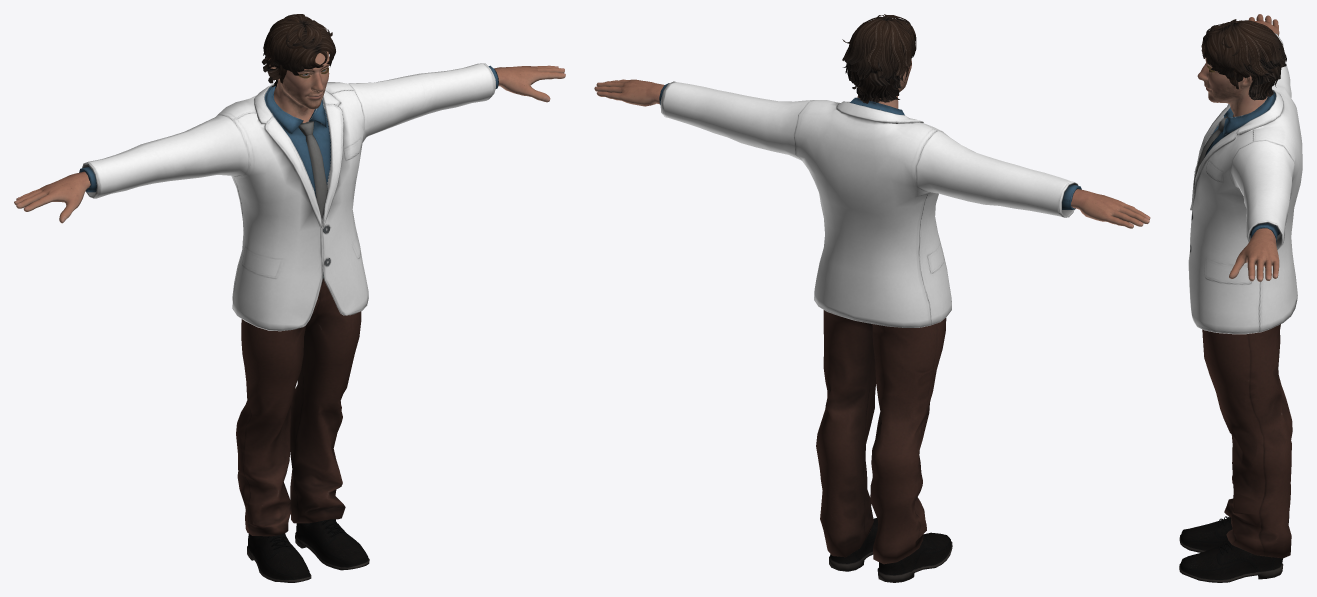
The model's file is Scientist 1.obj.
3 renders of one model, left to right at view 1: azimuth 30°, elevation 25°; view 2: azimuth 150°, elevation 25°; view 3: azimuth 270°, elevation 25°, orthographic.
Visible parts, largest first — view 1: Tops, Bottoms, Body, Shoes, Hair; view 2: Tops, Bottoms, Hair, Body, Shoes; view 3: Tops, Bottoms, Hair, Shoes, Body.
Part boxes in pixels (box(x1,y1,x2,y2)): Tops: box(79, 63, 498, 331); Bottoms: box(236, 272, 361, 536); Body: box(14, 51, 565, 223); Shoes: box(247, 519, 369, 582); Hair: box(262, 14, 335, 88); Tops: box(659, 81, 1081, 327); Bottoms: box(816, 310, 946, 564); Hair: box(842, 14, 916, 103); Body: box(594, 59, 1150, 228); Shoes: box(829, 518, 952, 582); Tops: box(1188, 33, 1302, 334); Bottoms: box(1202, 324, 1292, 558); Hair: box(1201, 19, 1286, 100); Shoes: box(1179, 516, 1283, 582); Body: box(1197, 14, 1279, 281).
Size of the model in its own units: 194 by 182 by 37.83.
5 materials, 5 textured.
